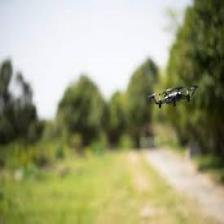drone: (148, 85, 197, 110)
